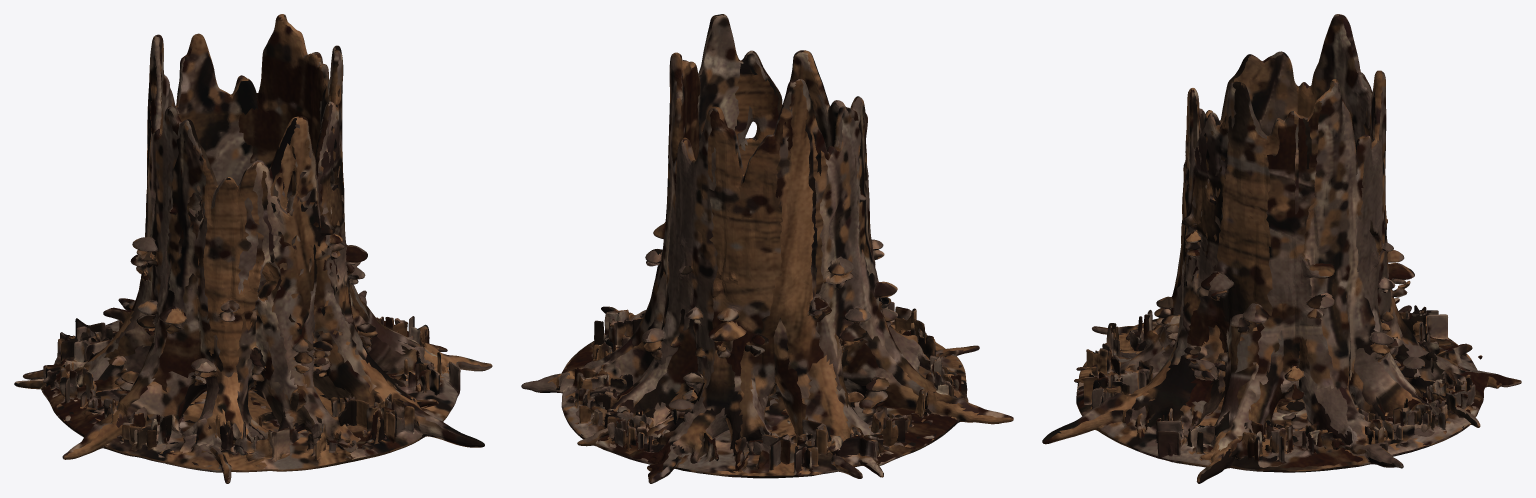
Rendered from half_trunk.obj.
The picture shows the model from 3 angles, left to right: view 1: azimuth 30°, elevation 25°; view 2: azimuth 150°, elevation 25°; view 3: azimuth 270°, elevation 25°; orthographic projection. The views are drawn at different scales.
Parts seen in each view (by area): view 1: geometry_0; view 2: geometry_0; view 3: geometry_0.
Part boxes in pixels (x1,y1,x2,y2): geometry_0: (14,14,492,483); geometry_0: (521,14,1013,483); geometry_0: (1042,14,1521,483).
Size of the model in its own units: 1 by 0.7919 by 0.9996.
